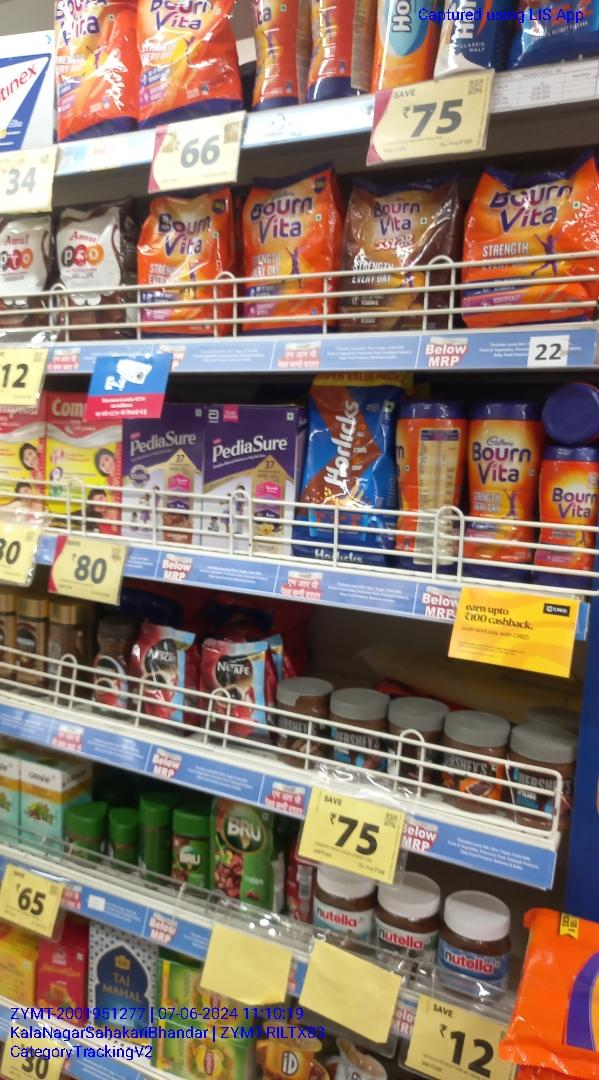BOURN_VITA_FIVE_STAR_MAGIC_500_G_POUCH: (339, 177, 459, 329)
PEDIASURE_CHOCOLATE_500_G_PACK: (123, 403, 199, 538)
PEDIASURE_VANILLA_500_G_PACK: (206, 397, 300, 550)
